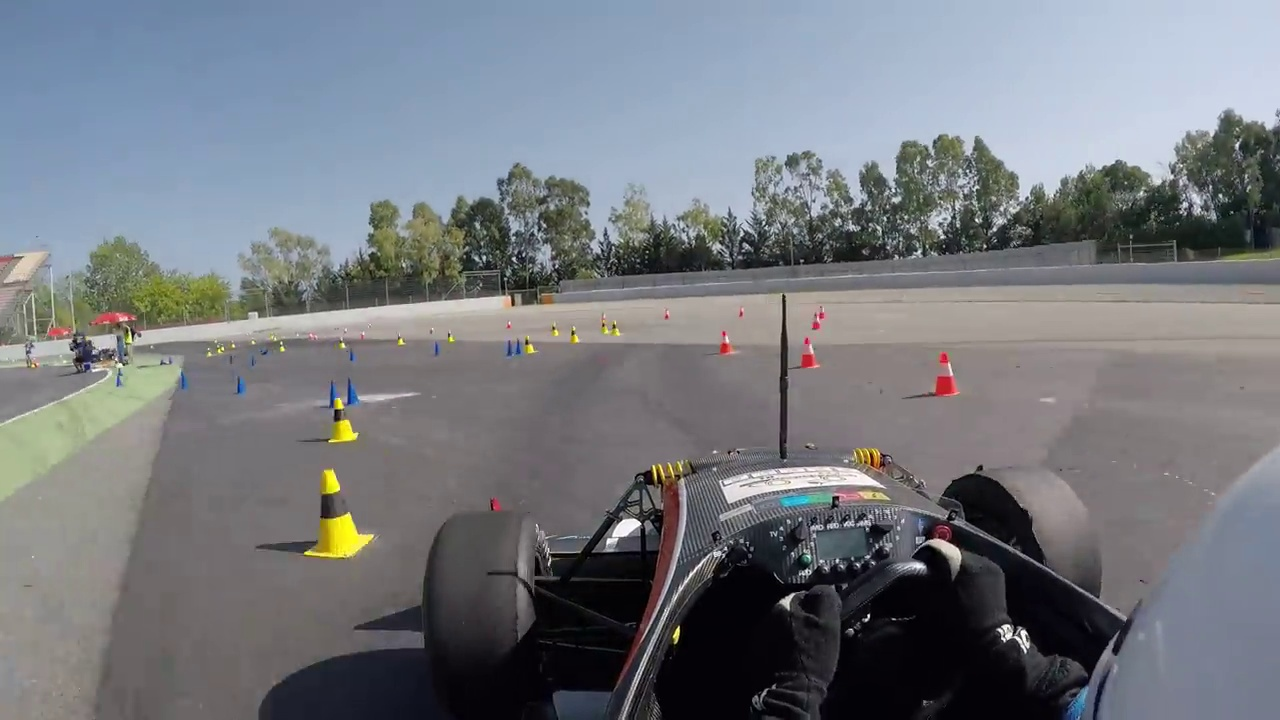Cone: (308, 468, 370, 557), (931, 349, 962, 399), (331, 395, 358, 443), (798, 335, 821, 368)
